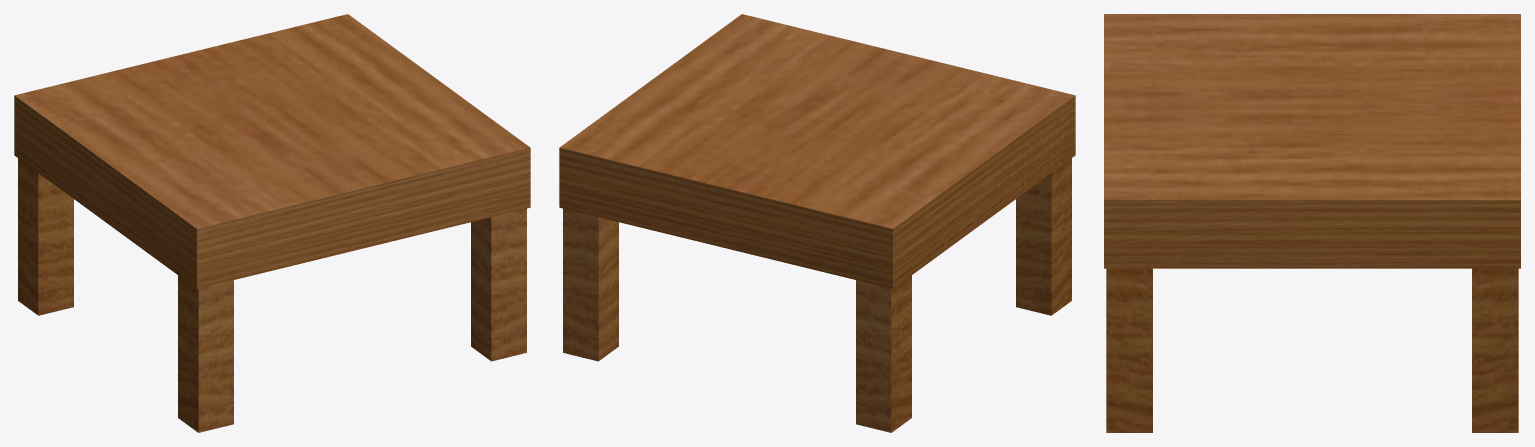
File: Стол.fbx
3 renders of one model, left to right at view 1: azimuth 30°, elevation 25°; view 2: azimuth 150°, elevation 25°; view 3: azimuth 270°, elevation 25°, orthographic. The views are drawn at different scales.
Visible parts, largest first — view 1: tABLE; view 2: tABLE; view 3: tABLE.
Boxes of the visible parts, box(x1,y1,x2,y2) form: tABLE: box(14, 14, 530, 432); tABLE: box(559, 14, 1075, 432); tABLE: box(1104, 14, 1520, 432).
Size of the model in its own units: 301 by 177 by 286.
